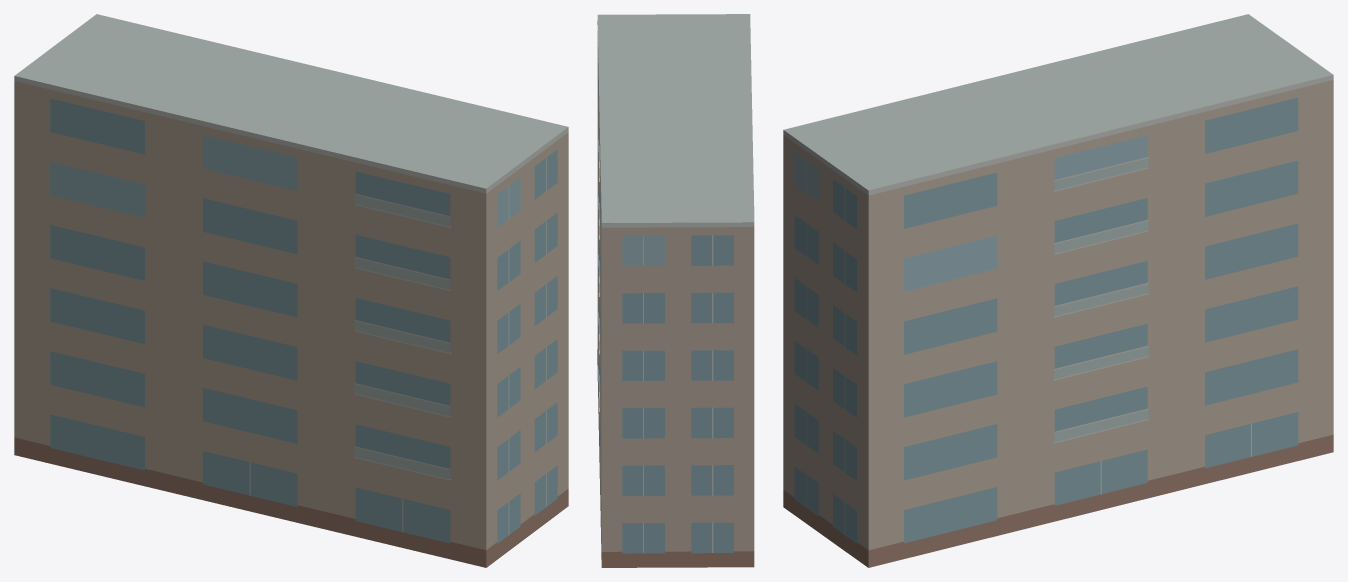
File: survey-upis-32528432.glb
The picture shows the model from 3 angles, left to right: view 1: azimuth 30°, elevation 25°; view 2: azimuth 150°, elevation 25°; view 3: azimuth 270°, elevation 25°; orthographic projection. The views are drawn at different scales.
Parts seen in each view (by area): view 1: survey-upis-32528432.tmp; view 2: survey-upis-32528432.tmp; view 3: survey-upis-32528432.tmp.
Boxes of the visible parts, bbox=[...] form: survey-upis-32528432.tmp: bbox=[14, 14, 568, 567]; survey-upis-32528432.tmp: bbox=[597, 14, 754, 567]; survey-upis-32528432.tmp: bbox=[783, 14, 1333, 567].
Bounding box in the file's own units: 18.37 × 18.3 × 24.19.
